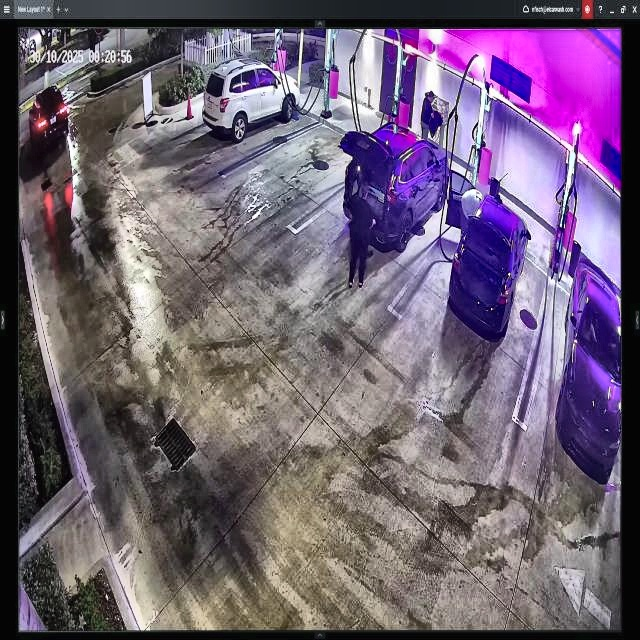Car: (342, 123, 452, 247), (451, 168, 529, 337)
